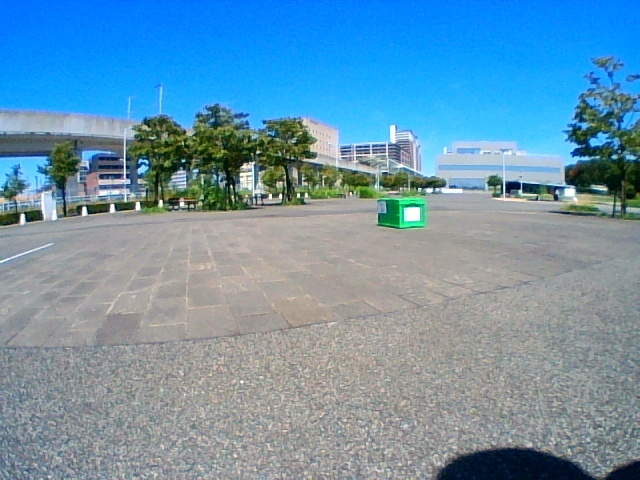green_box: (377, 197, 424, 228)
tag: (378, 200, 385, 213)
